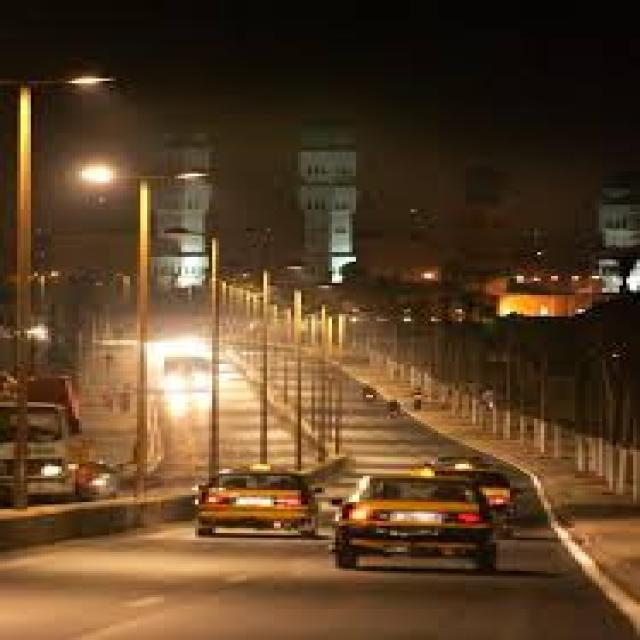camion: (28, 403, 77, 502), (1, 403, 21, 506)
taxi: (337, 477, 495, 569), (199, 473, 317, 536), (436, 458, 512, 512), (496, 516, 512, 537)
